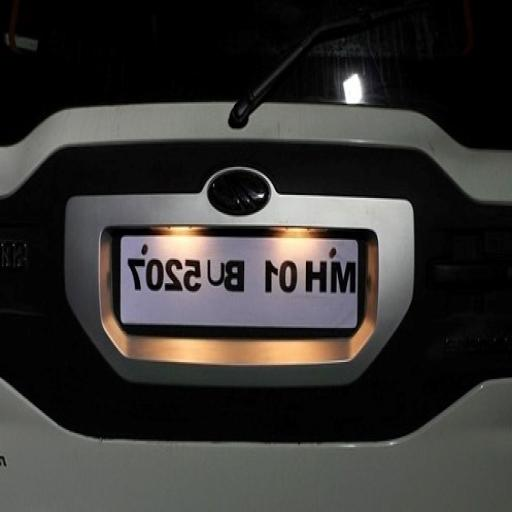License: (120, 230, 360, 325)
